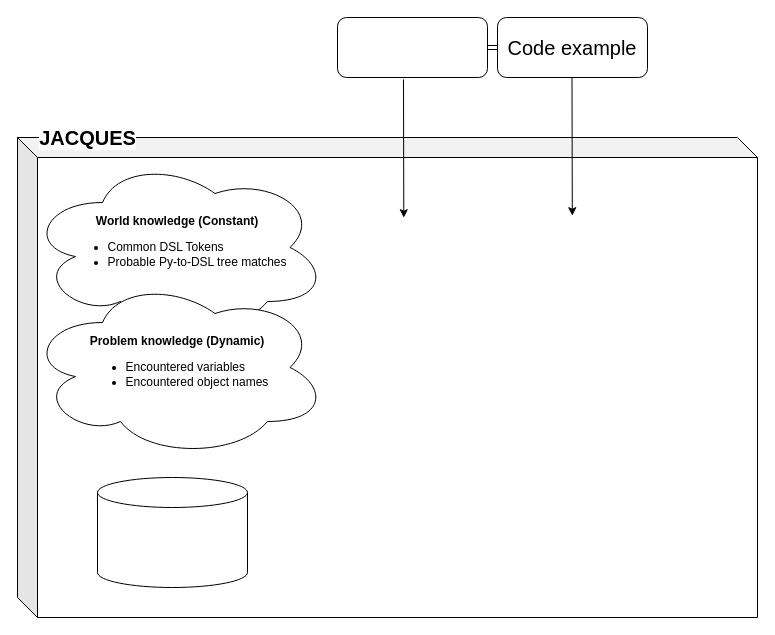
Some shapes in this 775 by 635 pixel diagram are drawn without their labels. The box of each missing label's shape, as (x1, y1, x2, y2) in pixels:
DSL example: (336, 16, 488, 78)
ruleset: (96, 476, 248, 588)
